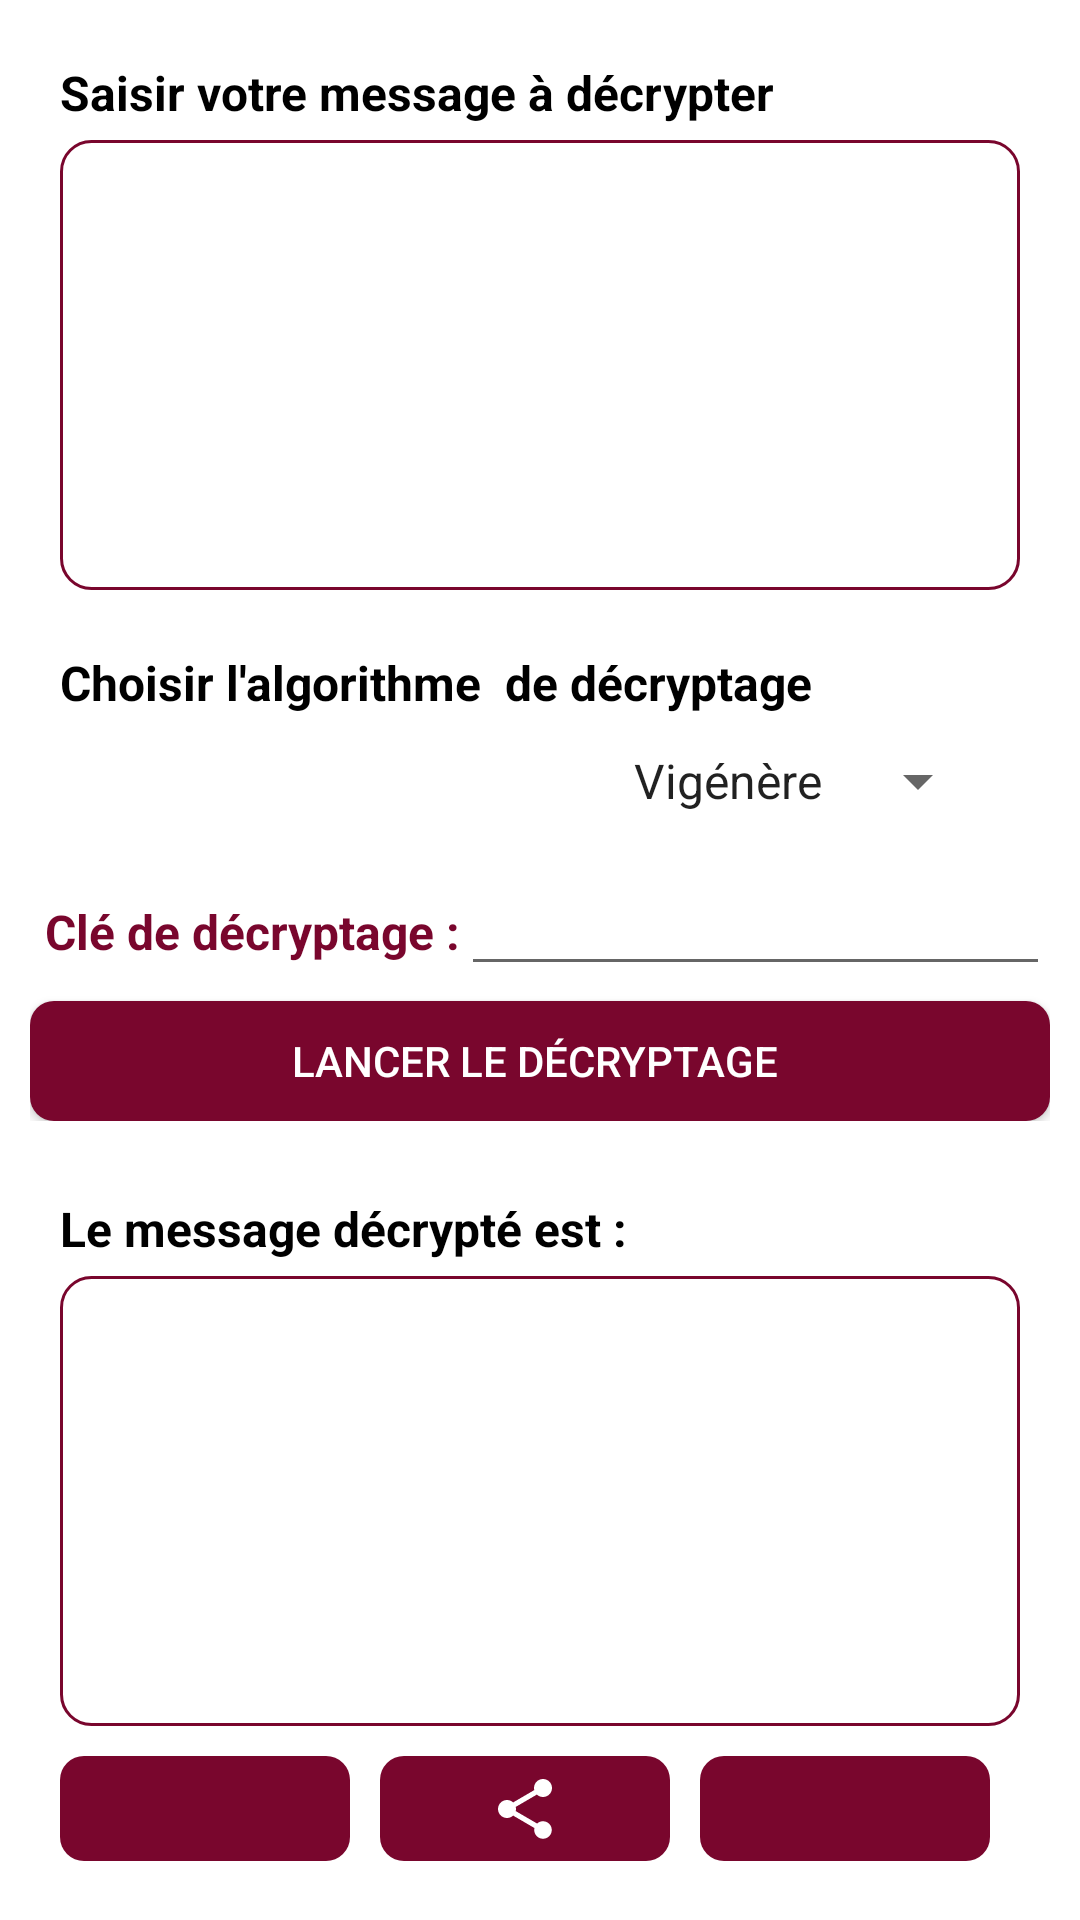

Icons on this 1080px x 1920px Android screen, each with the point to tap as point (x, y):
share: point (525, 1808)
